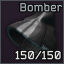Bomber Beanie: (0, 0, 64, 64)
